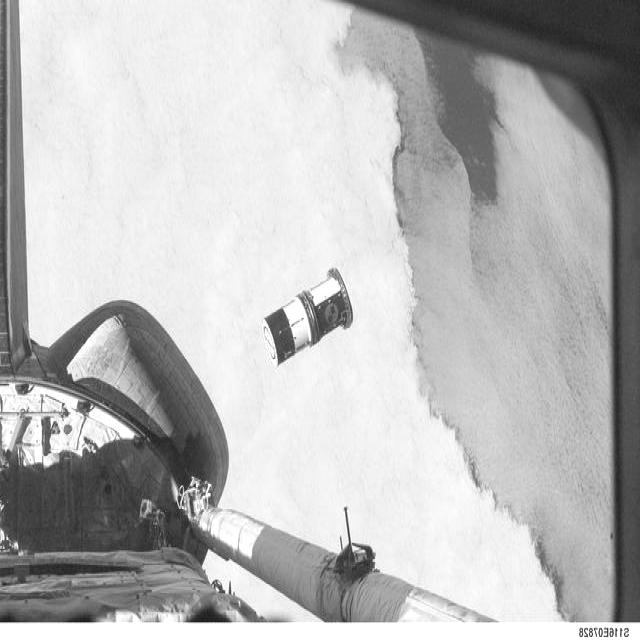satellite: (259, 257, 358, 372)
